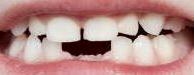Hypodontia: (59, 38, 113, 61)
